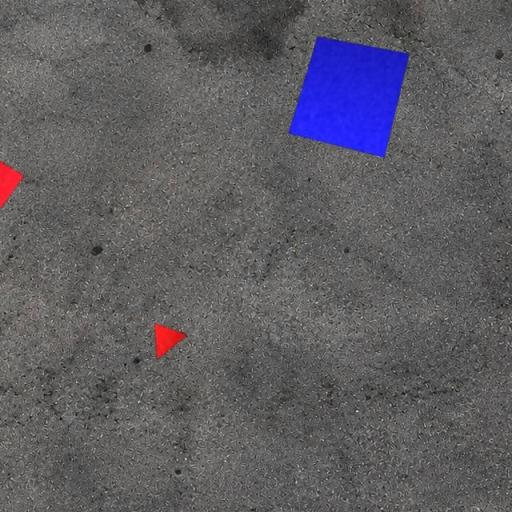BLUE_SQUARE: (288, 36, 410, 158)
RED_SQUARE: (0, 148, 26, 214)
